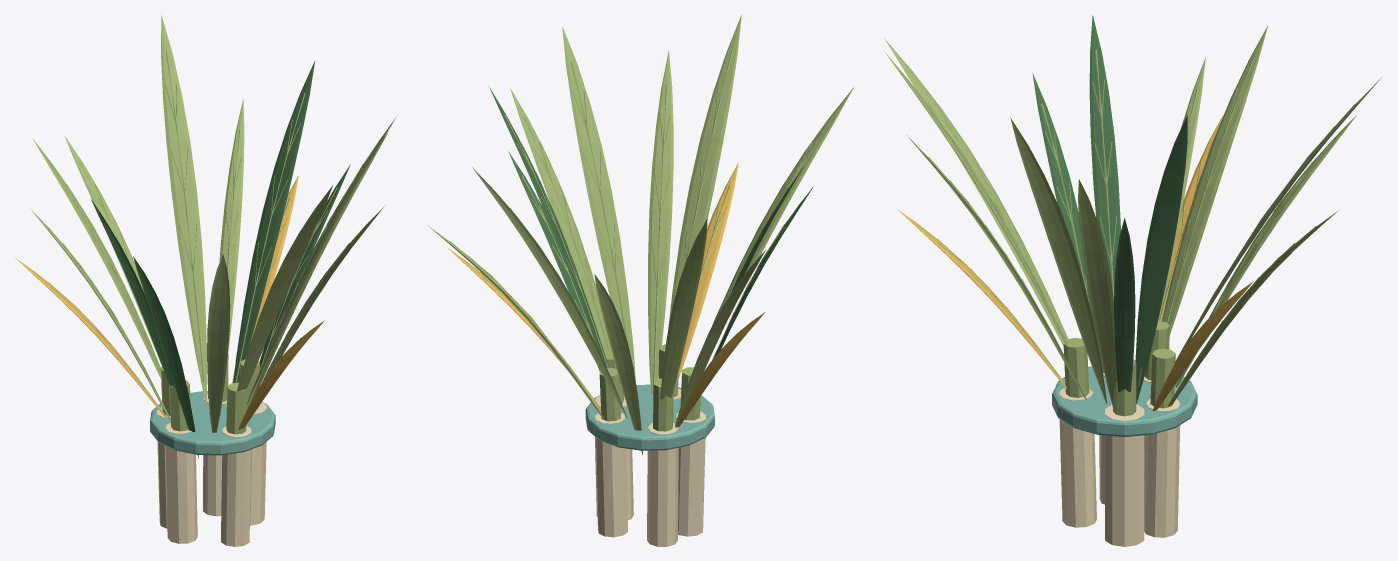
Rendered from SM_Lemongrass.fbx.
3 views of the same model, side by side, from view 1: azimuth 30°, elevation 25°; view 2: azimuth 150°, elevation 25°; view 3: azimuth 270°, elevation 25° (orthographic). The views are drawn at different scales.
Visible parts, largest first — view 1: FoliageRoot, ReadyAccents; view 2: FoliageRoot, ReadyAccents; view 3: FoliageRoot, ReadyAccents.
Boxes of the visible parts, x1,y1,x2,y2 form: FoliageRoot: (30, 15, 396, 546); ReadyAccents: (15, 175, 324, 455); FoliageRoot: (427, 15, 854, 546); ReadyAccents: (447, 162, 765, 450); FoliageRoot: (884, 15, 1381, 546); ReadyAccents: (897, 114, 1253, 436).
Size of the model in its own units: 0.7272 by 0.925 by 0.8773.
